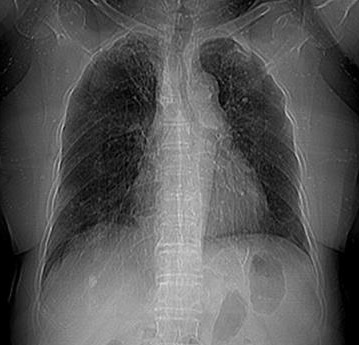Mildw: (37, 26, 157, 277), (196, 37, 309, 252)
